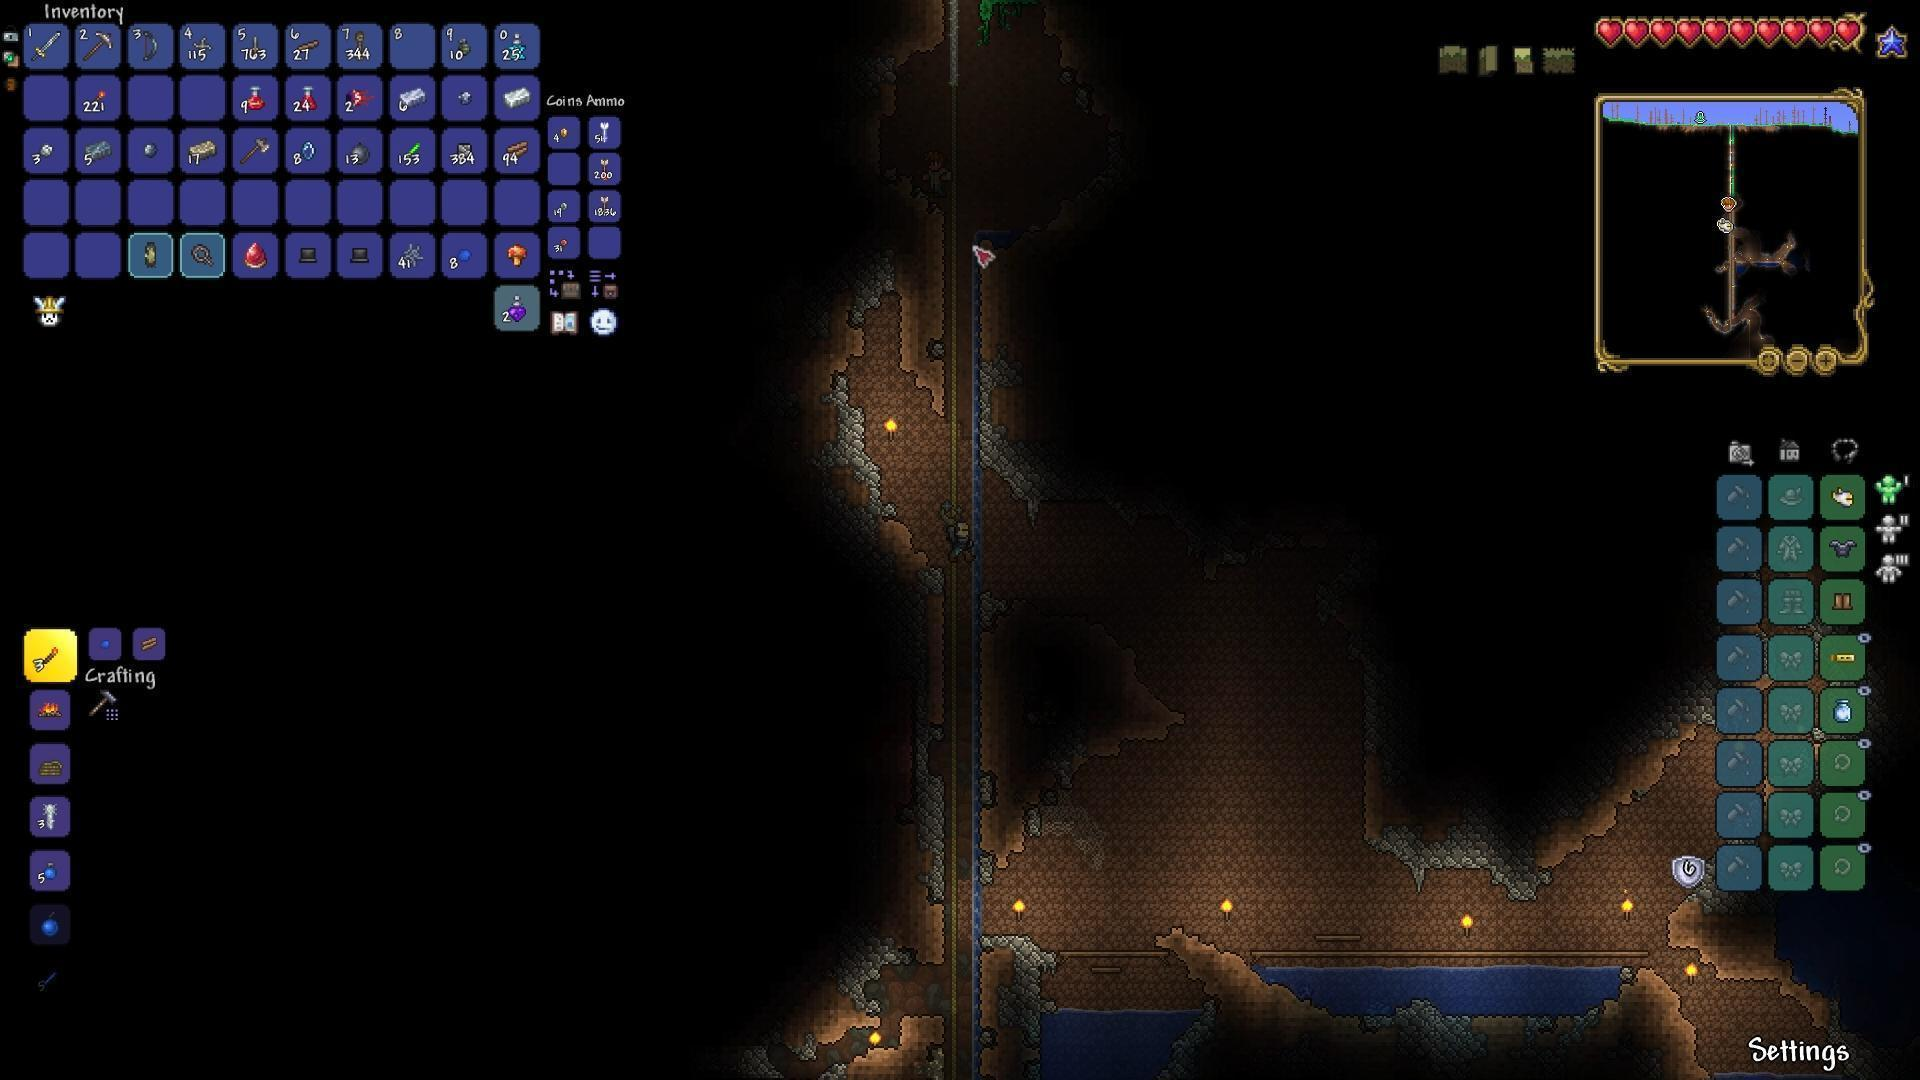bomb: (348, 141, 372, 166)
bow: (138, 26, 161, 63)
breastplate: (1828, 539, 1859, 559)
eye: (342, 87, 375, 109)
gel: (456, 244, 476, 262)
glowstick: (404, 137, 423, 160)
grenade: (456, 34, 471, 59)
helmet: (1829, 485, 1855, 506)
legs: (1828, 588, 1857, 612)
pickaxe: (82, 32, 116, 63)
platform: (295, 36, 322, 54)
rope: (351, 26, 367, 61), (41, 800, 55, 829)
shuriken: (191, 36, 212, 55), (249, 33, 261, 55)
